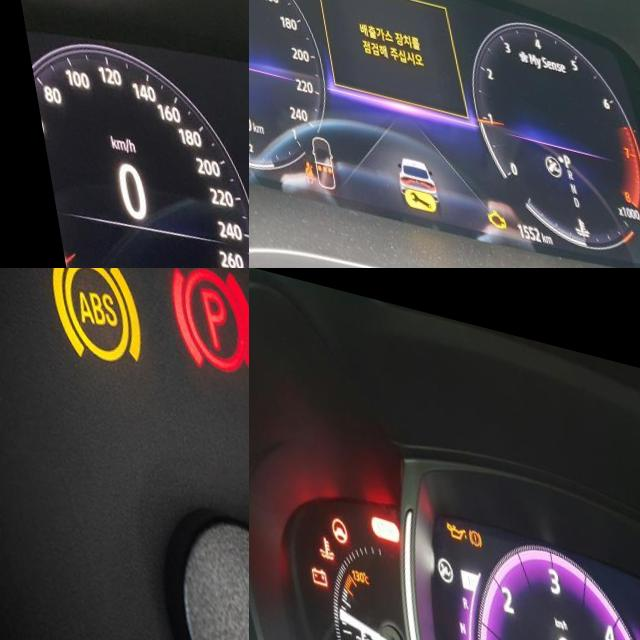Engine cooling system: (306, 528, 325, 556)
